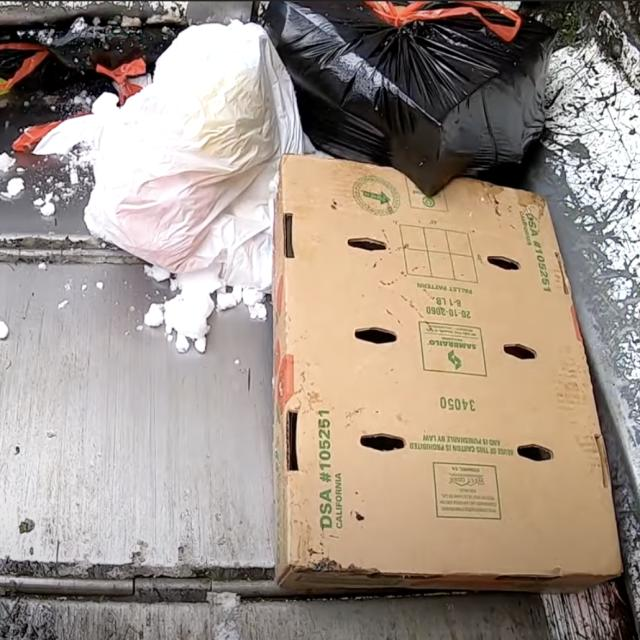bag: (55, 37, 275, 284), (266, 0, 577, 148)
cardboard: (258, 148, 632, 606)
